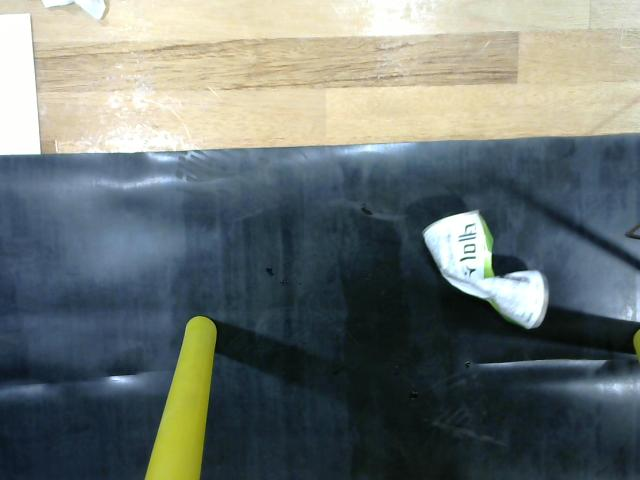can: (420, 207, 553, 332)
